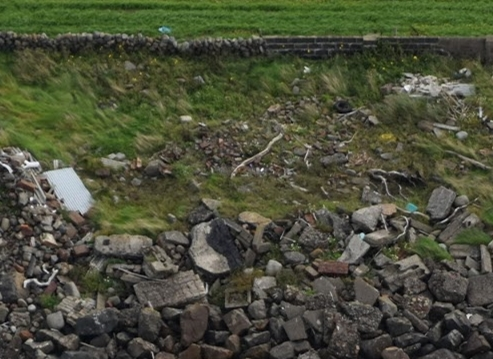cuboid: (42, 163, 96, 216)
straight_bar: (230, 129, 286, 182)
together_barrel: (1, 145, 63, 218)
white_in_green: (321, 84, 367, 127), (394, 187, 431, 223), (148, 11, 185, 45)
